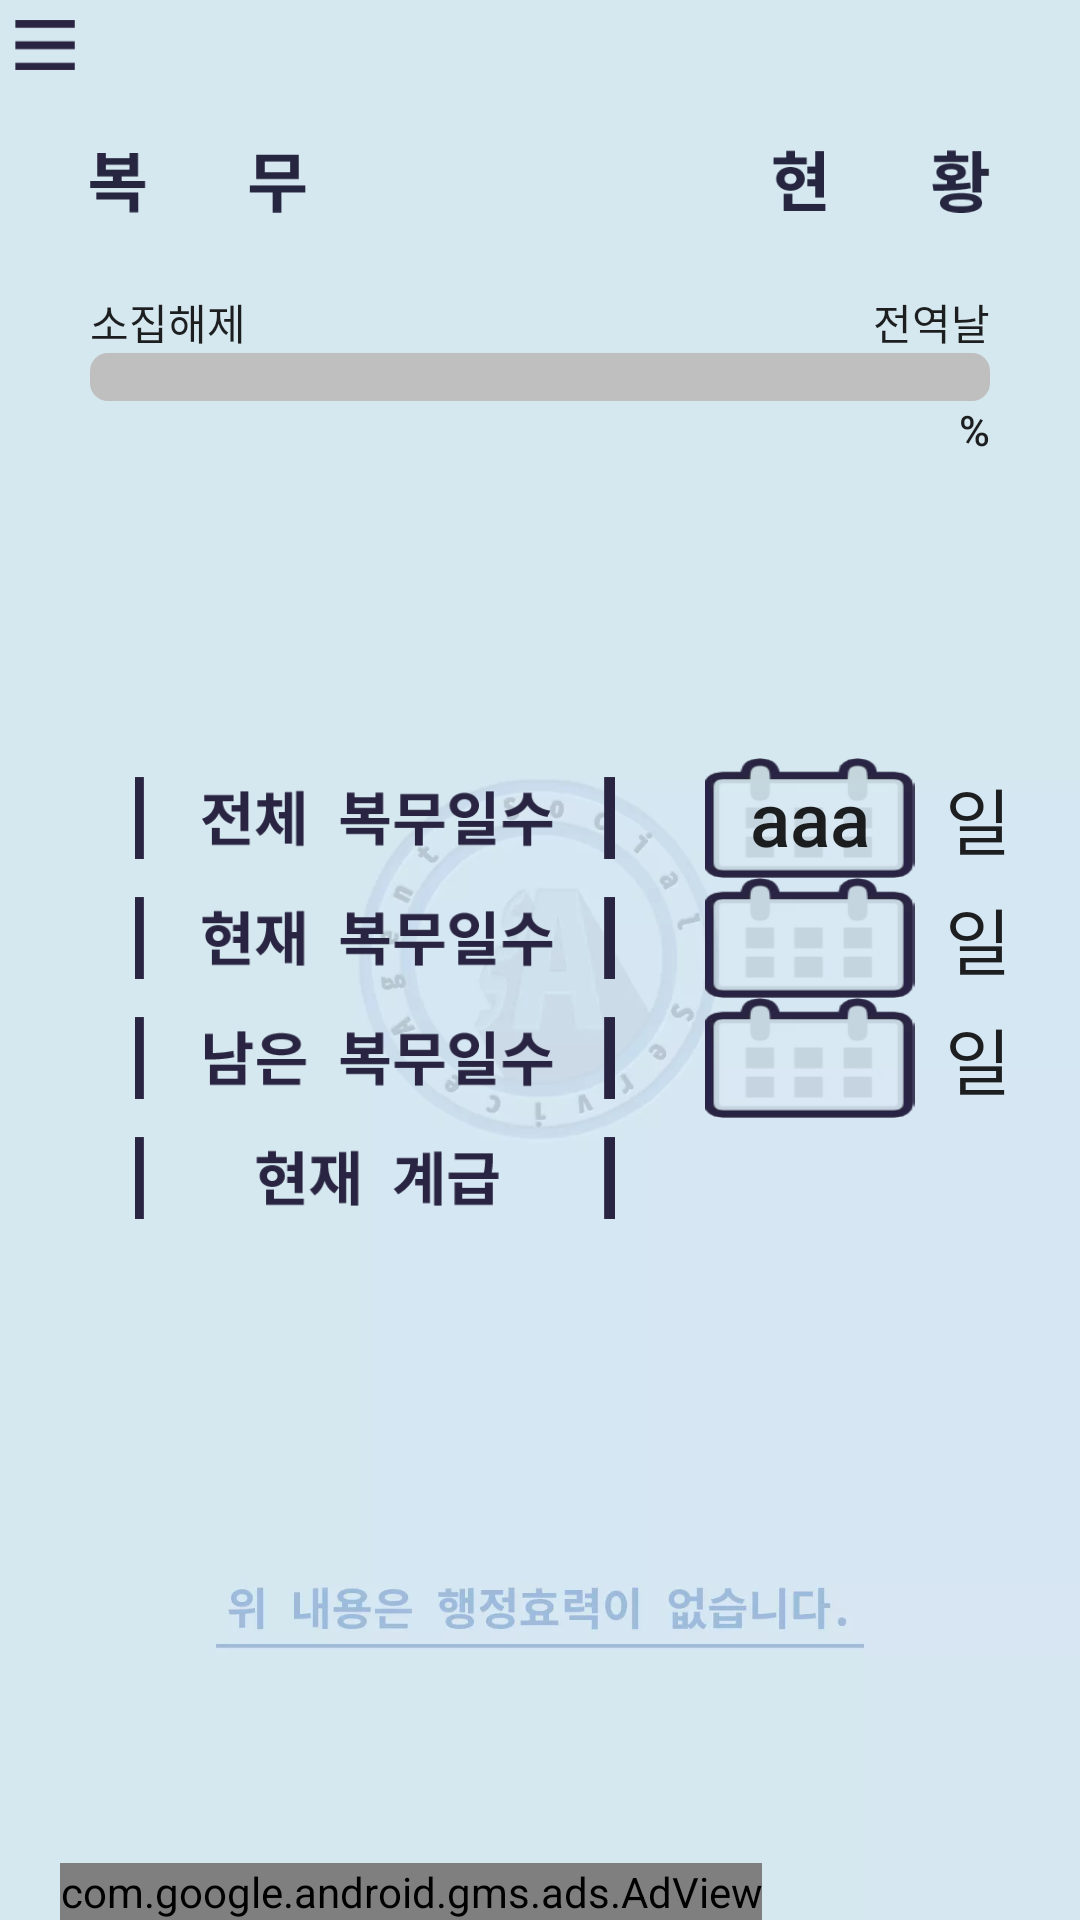

Point at icon controls on the screen. Image size 1080*1920, points as (x=x, y=y).
menu: (x=45, y=45)
